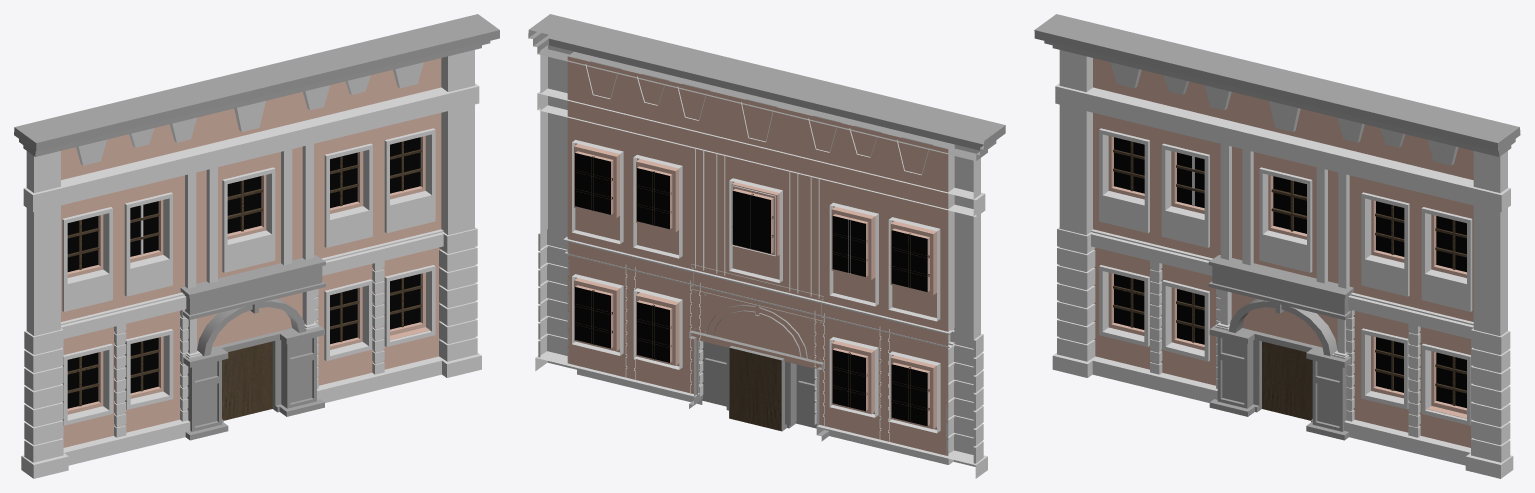
The model's file is Building_02.fbx.
3 renders of one model, left to right at view 1: azimuth 30°, elevation 25°; view 2: azimuth 150°, elevation 25°; view 3: azimuth 330°, elevation 25°, orthographic.
Parts seen in each view (by area): view 1: Building_02; view 2: Building_02; view 3: Building_02.
Part boxes in pixels (x1,y1,x2,y2): Building_02: [14, 14, 499, 478]; Building_02: [528, 14, 1005, 478]; Building_02: [1034, 14, 1520, 478].
Size of the model in its own units: 15.97 by 11.37 by 1.64.
